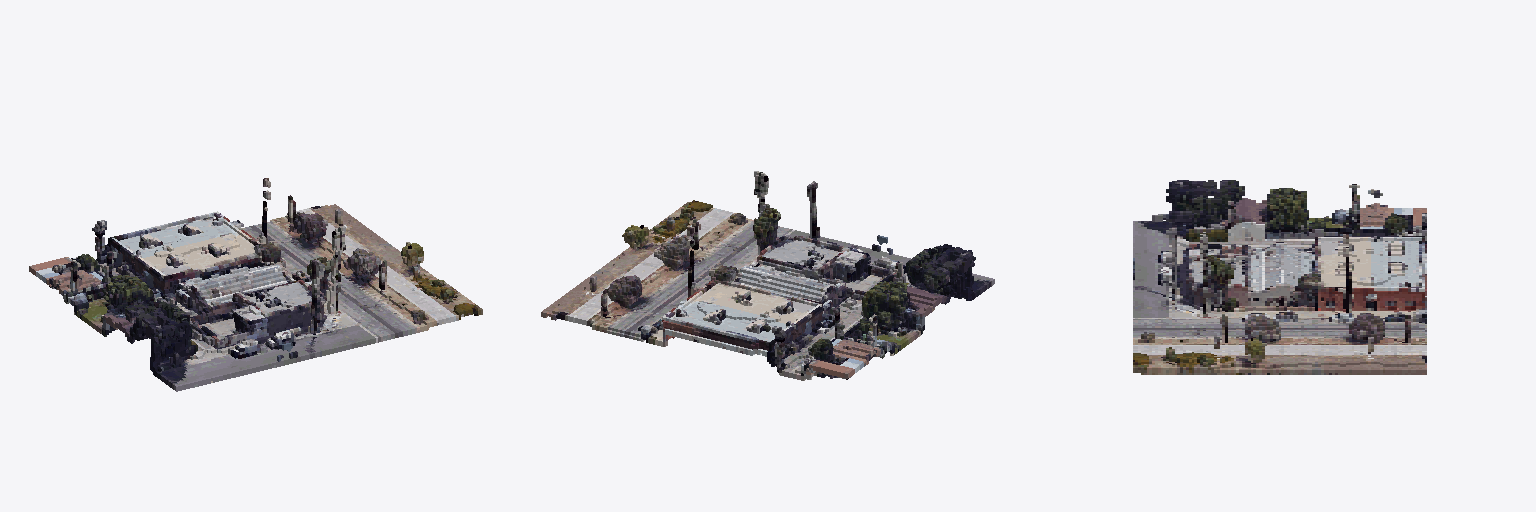
3 views of the same model, side by side, from view 1: azimuth 30°, elevation 25°; view 2: azimuth 150°, elevation 25°; view 3: azimuth 270°, elevation 25° (orthographic).
Visible parts, largest first — view 1: object 1; view 2: object 1; view 3: object 1.
Boxes of the visible parts, x1=… form: object 1: x1=29, y1=178, x2=482, y2=391; object 1: x1=541, y1=171, x2=994, y2=380; object 1: x1=1133, y1=180, x2=1426, y2=374.
Bounding box in the file's own units: 12.6 × 3.5 × 10.5.
1 materials, 1 textured.